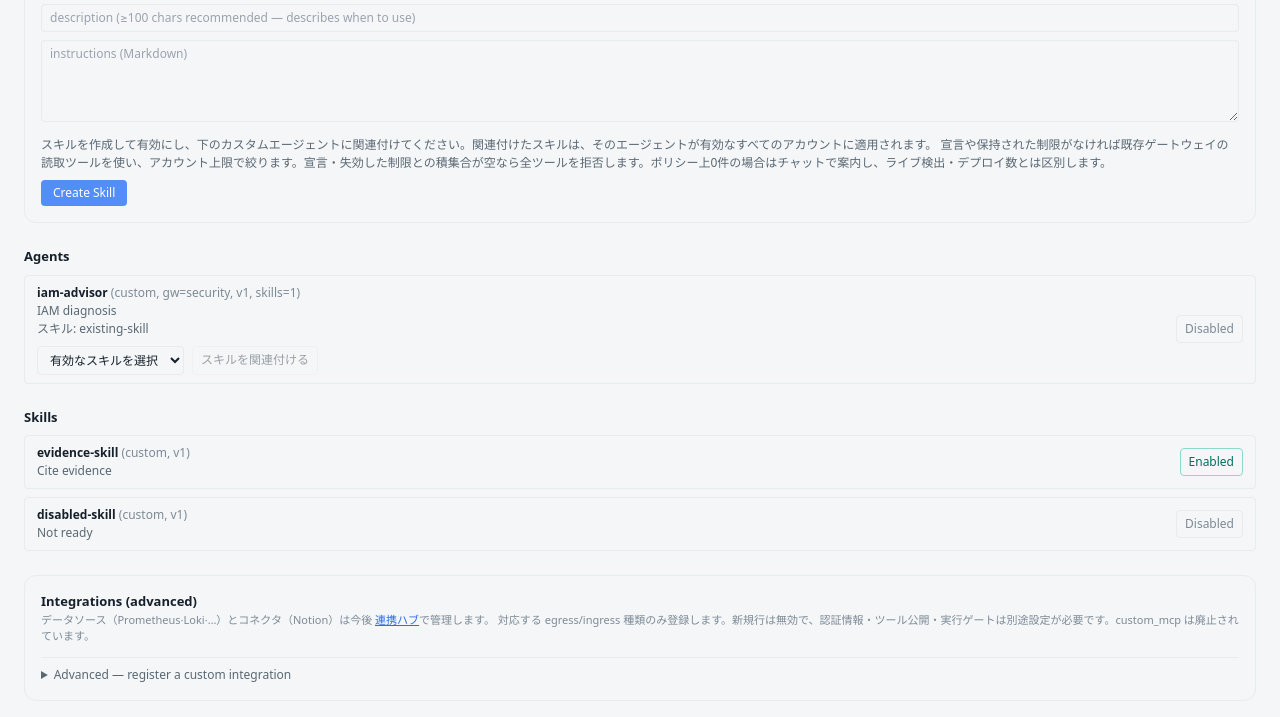
it: custom agent registration › localizes attachment controls and failure feedback in ja
(page scrolled)
Select "evidence-skill" in the dropdown named "iam-advisor に関連付けるスキル": (110, 360) [37,346,184,374]
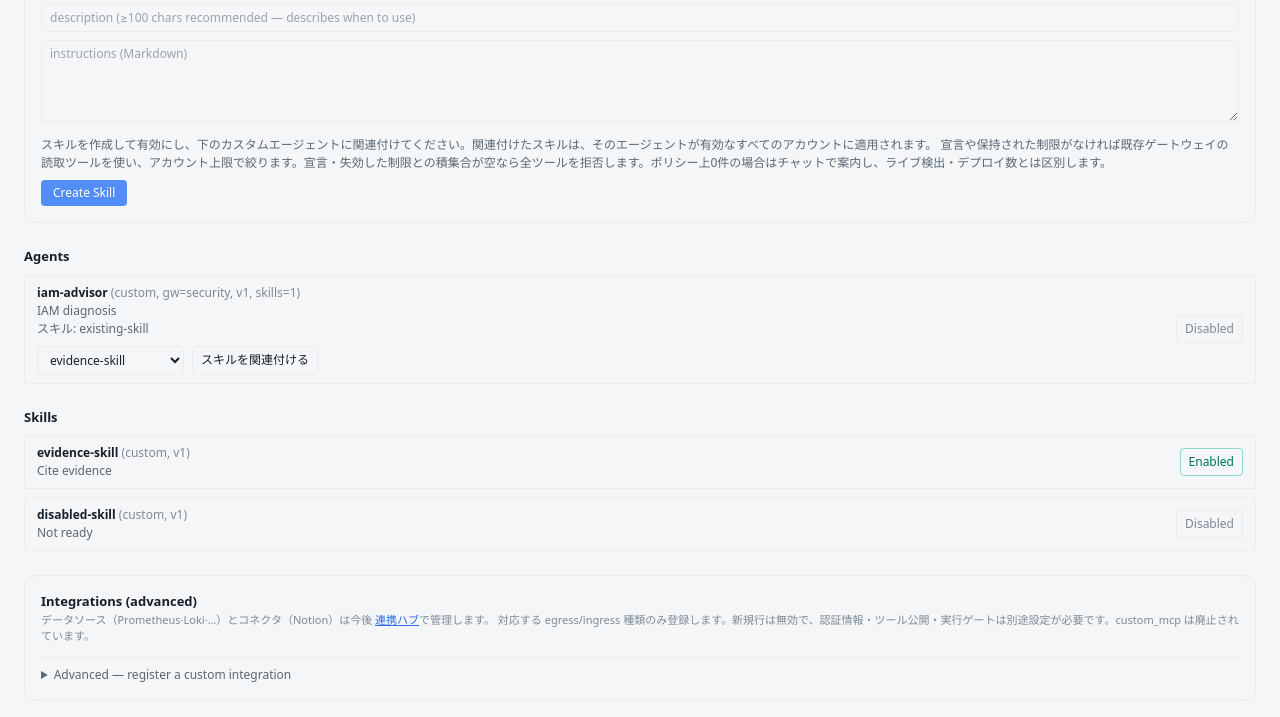
Click the button with aria-label "iam-advisor にスキルを関連付ける": (255, 360) [192,346,318,374]
(page scrolled)
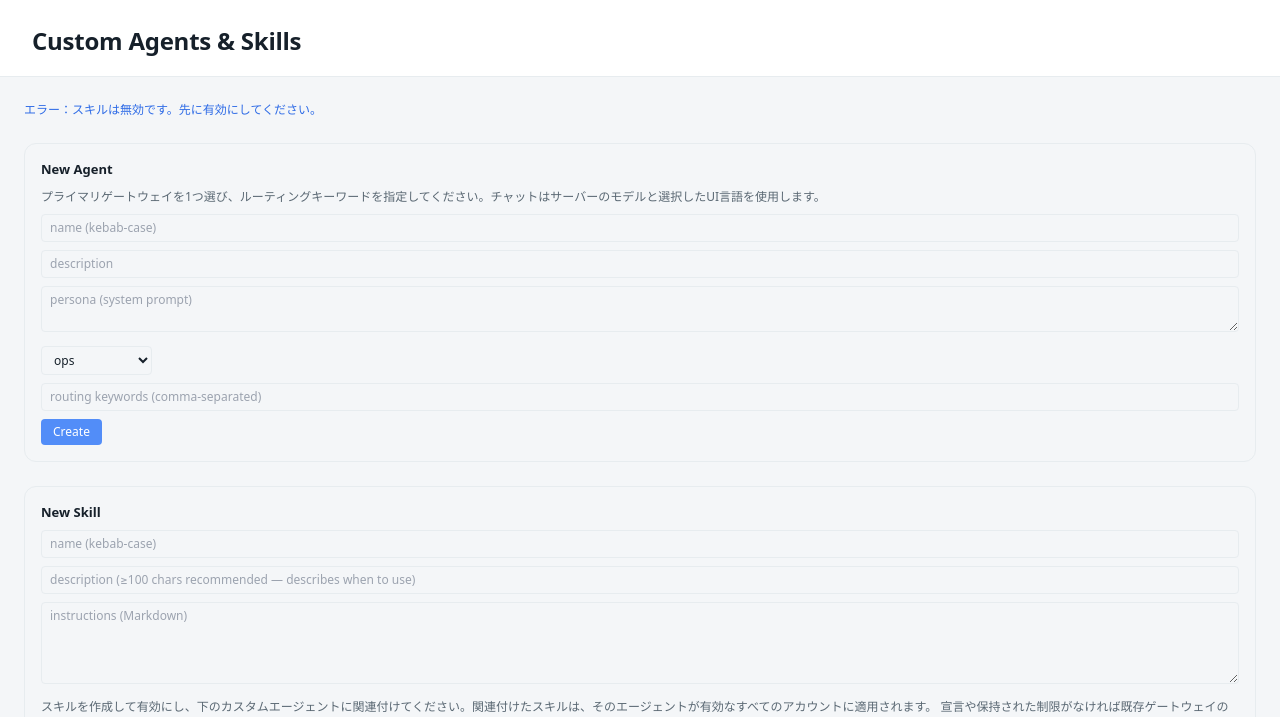
Now the text "エラー：スキルは無効です。先に有効にしてください。" is shown, box [24,101,322,118]
